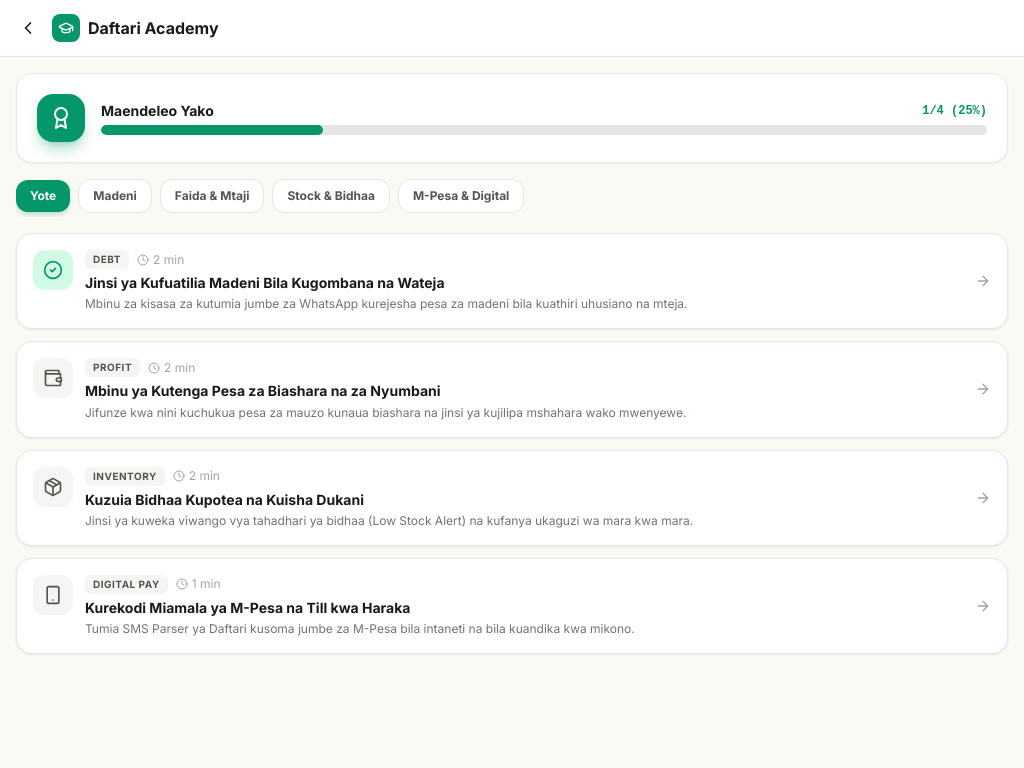
Test: AcademyScreen (Daftari Academy Micro-Learning Engine) › filters lessons when category filter chips are clicked
Click the button "Madeni" at x=115, y=196, box x1=78 y1=179 x2=152 y2=213
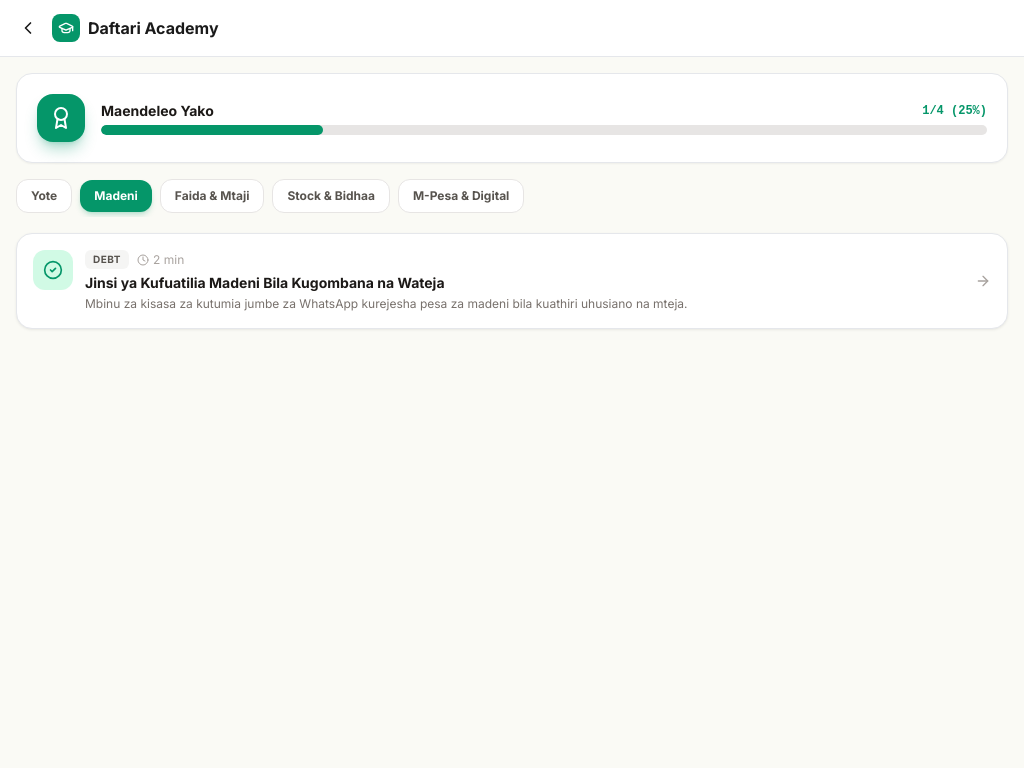
expect the heading "Jinsi ya Kufuatilia Madeni Bila Kugombana na Wateja" is shown: met, box x1=85 y1=274 x2=444 y2=291
expect the button "Mbinu ya Kutenga Pesa za Biashara na za Nyumbani" is gone: met
